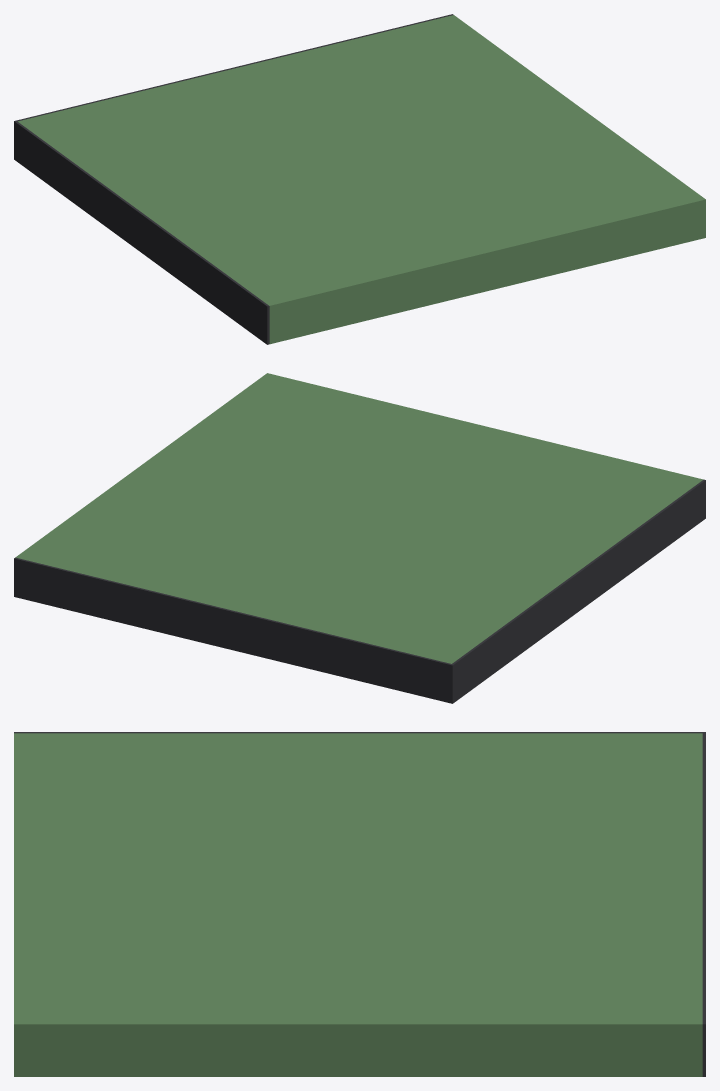
File: square_sector.glb
The picture shows the model from 3 angles, top to bottom: view 1: azimuth 30°, elevation 25°; view 2: azimuth 150°, elevation 25°; view 3: azimuth 270°, elevation 25°; orthographic projection. The views are drawn at different scales.
Visible parts, largest first — view 1: square_sector; view 2: square_sector; view 3: square_sector.
Part boxes in pixels (x1=…): square_sector: x1=14, y1=14, x2=705, y2=344; square_sector: x1=14, y1=373, x2=705, y2=703; square_sector: x1=14, y1=732, x2=705, y2=1076.
Bounding box in the file's own units: 18 × 1.51 × 18.
Materials: 1 (1 with a texture image).
